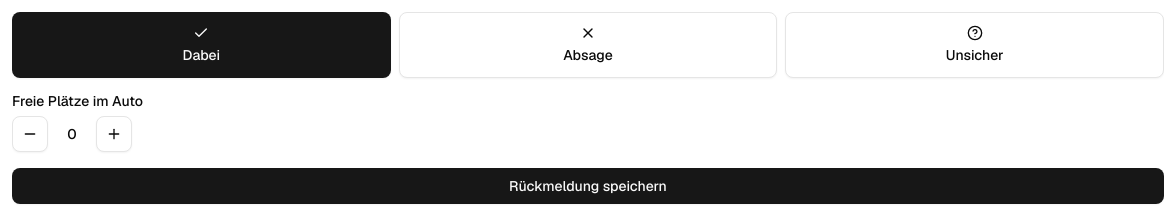
Scenario: RsvpWidget › increments the carpool-seat count
Expected: the text "0" is shown, [67,125,77,143]
Click the 5th button at point(114, 134), box [96,116,132,152]
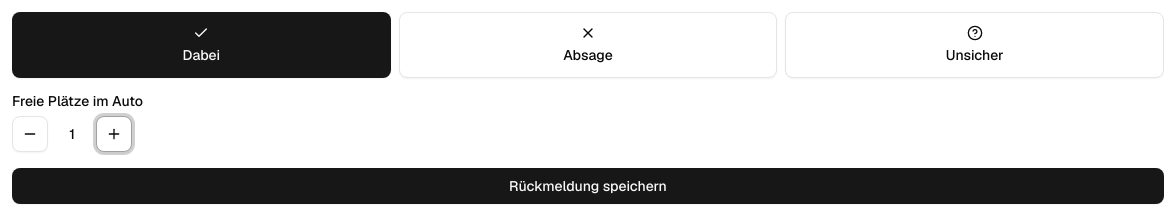
Now the text "1" is shown, box [69,125,75,143]
